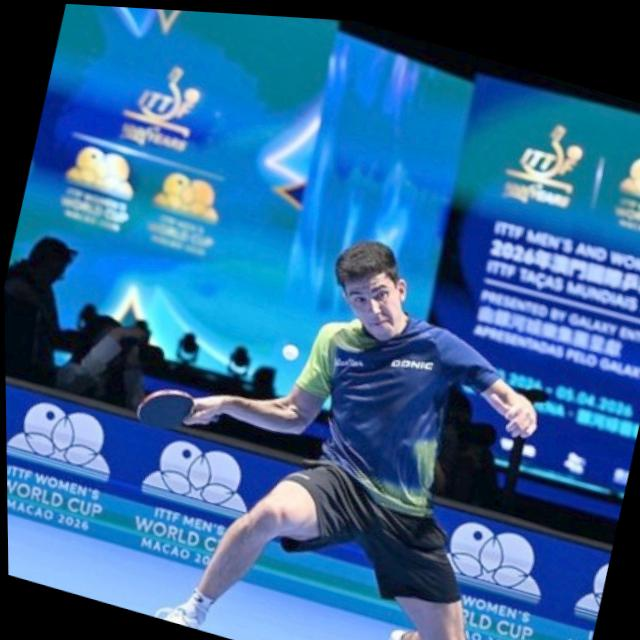TT Racket: (133, 383, 199, 434)
